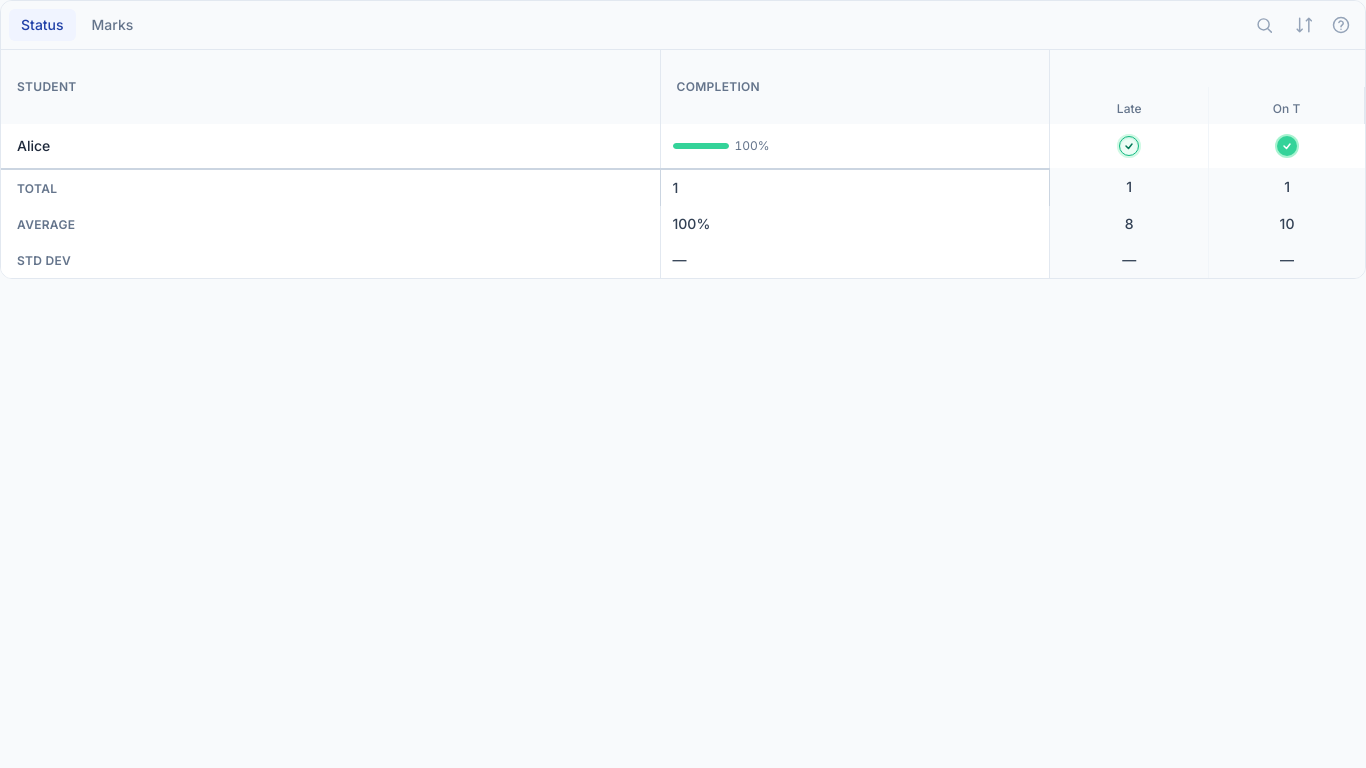
ActivityTable › shows late as the core status circle in status mode and a clear tint in marks mode
Click the button named "show legend" at (1341, 25), box [1325, 9, 1357, 41]
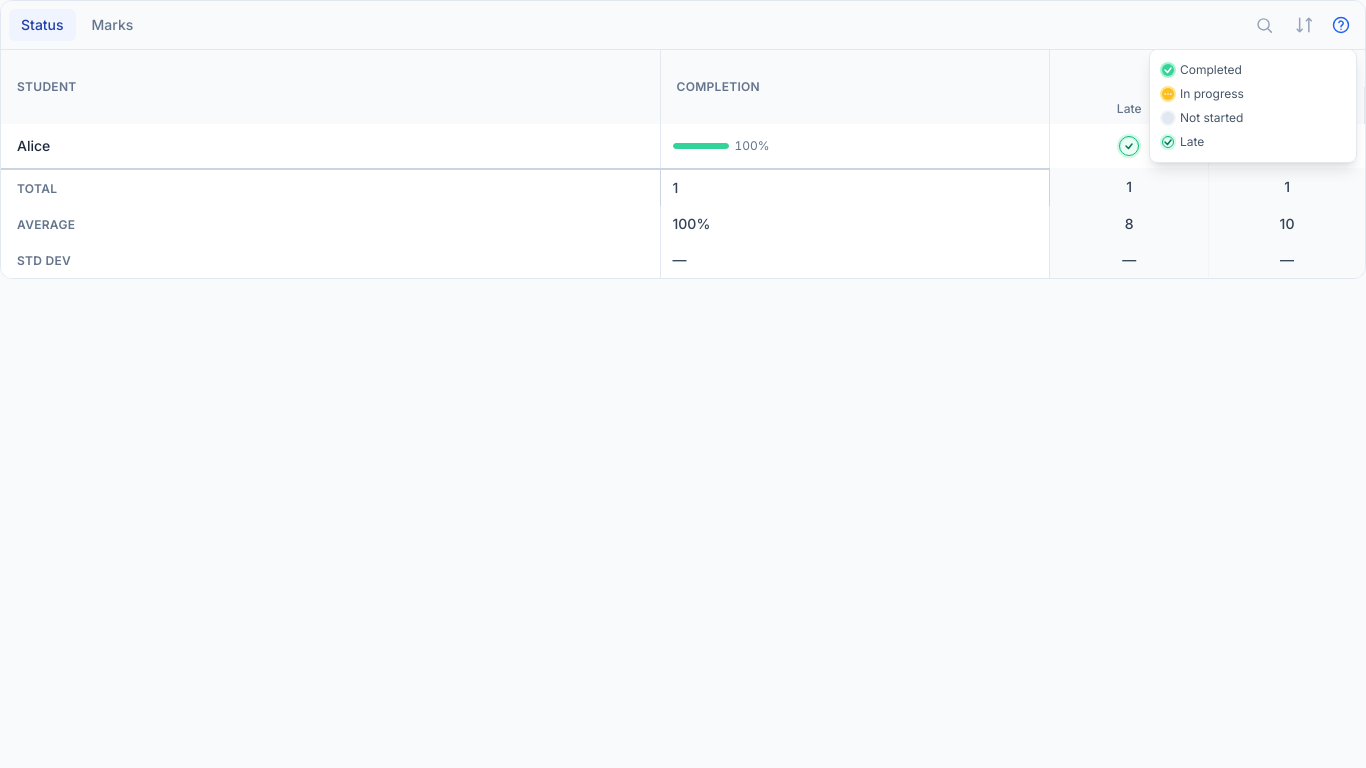
Result: the dialog named "legend" shows "Late" at [1180, 134, 1204, 149]
Click the button "marks" at (112, 25), box [80, 9, 145, 41]
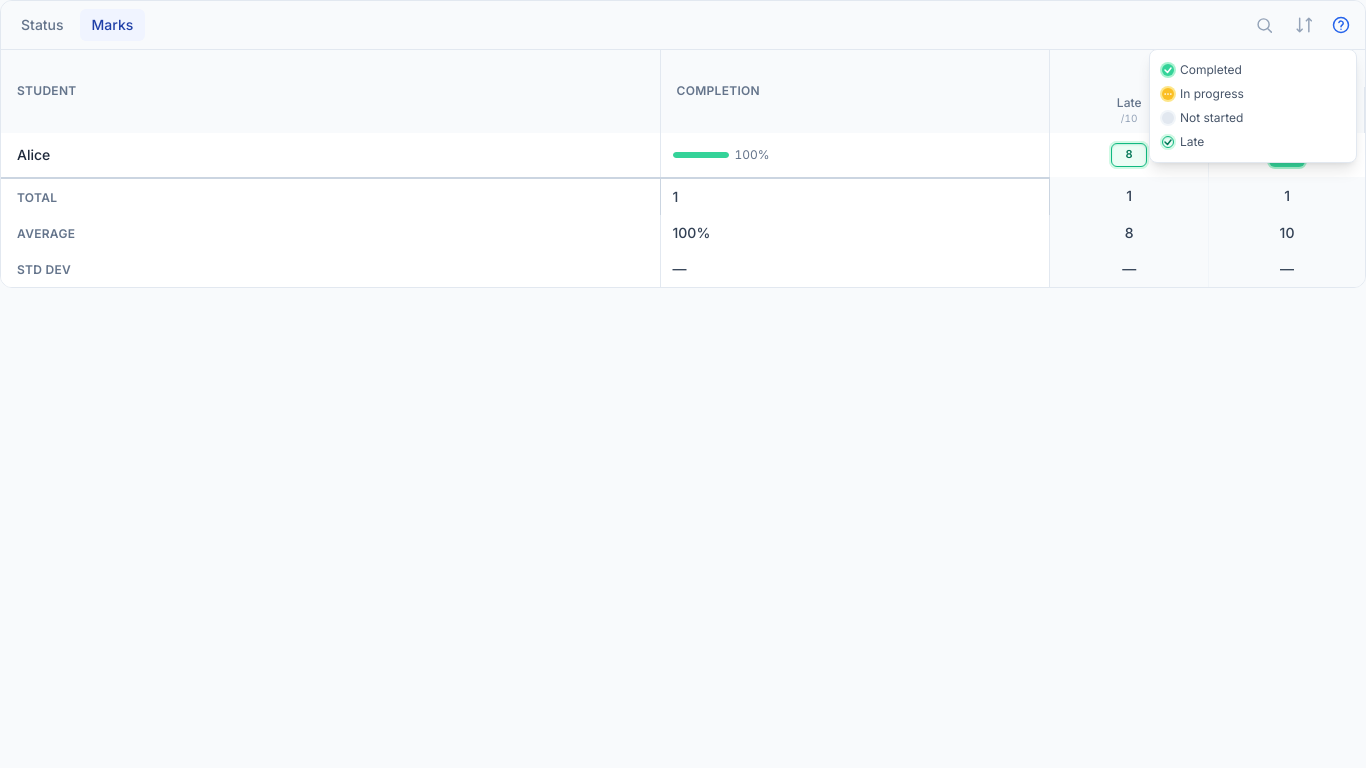
Result: the cell "8" in the row of "Alice" is shown at [1126, 147, 1133, 161]
Result: the text "8" is shown at [1111, 142, 1147, 166]
Result: the text "10" is shown at [1269, 142, 1305, 166]
